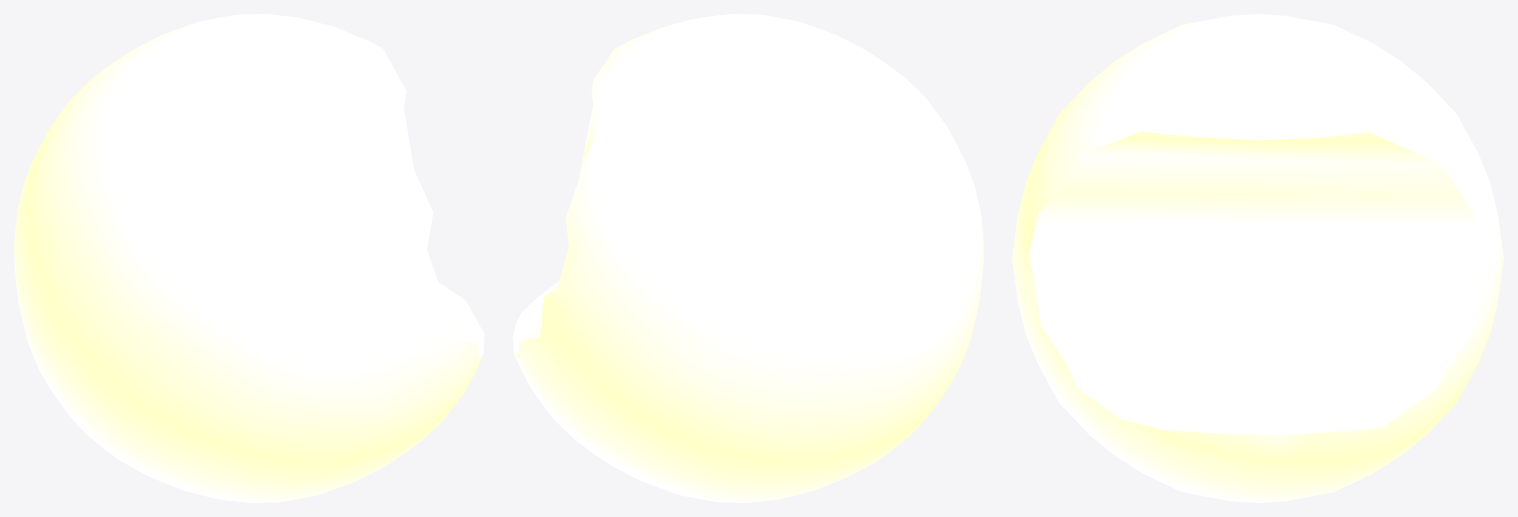
File: Moon.fbx
The picture shows the model from 3 angles, left to right: view 1: azimuth 30°, elevation 25°; view 2: azimuth 150°, elevation 25°; view 3: azimuth 270°, elevation 25°; orthographic projection.
Parts seen in each view (by area): view 1: Icosphere; view 2: Icosphere; view 3: Icosphere.
Part boxes in pixels (<box>): Icosphere: <box>14,14,484,502</box>; Icosphere: <box>513,14,983,502</box>; Icosphere: <box>1012,14,1503,502</box>.
Size of the model in its own units: 35.69 by 37.46 by 37.38.
